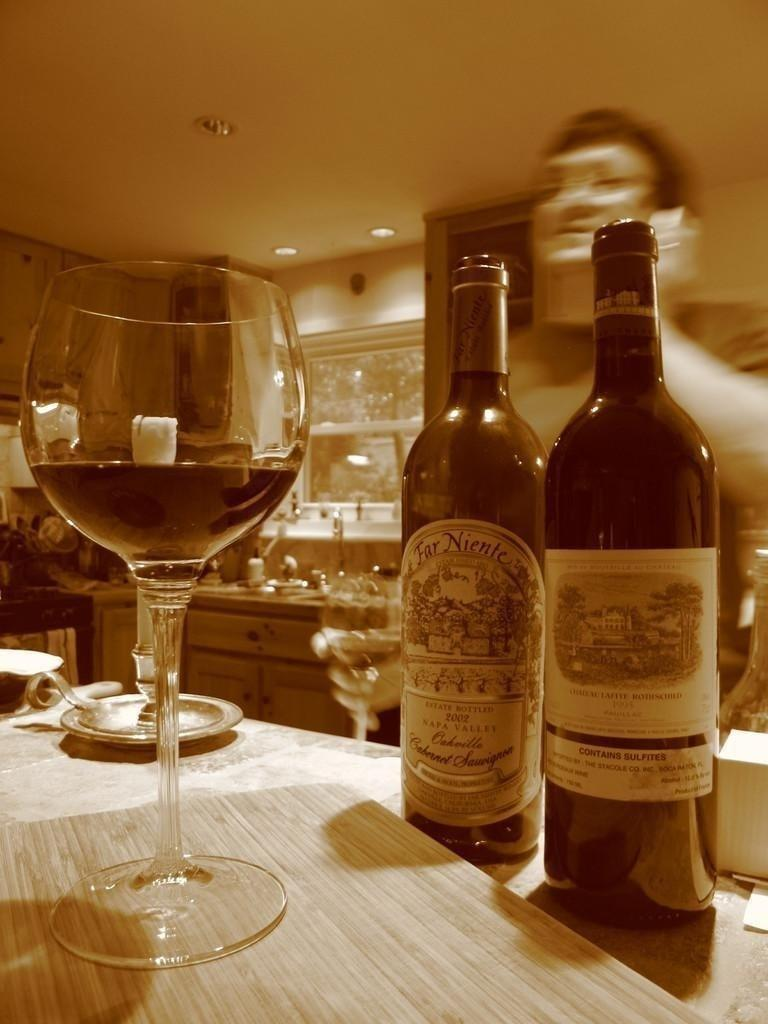bottle-glass: (536, 219, 727, 921), (387, 254, 552, 859)
glass-wine: (15, 263, 307, 970)
